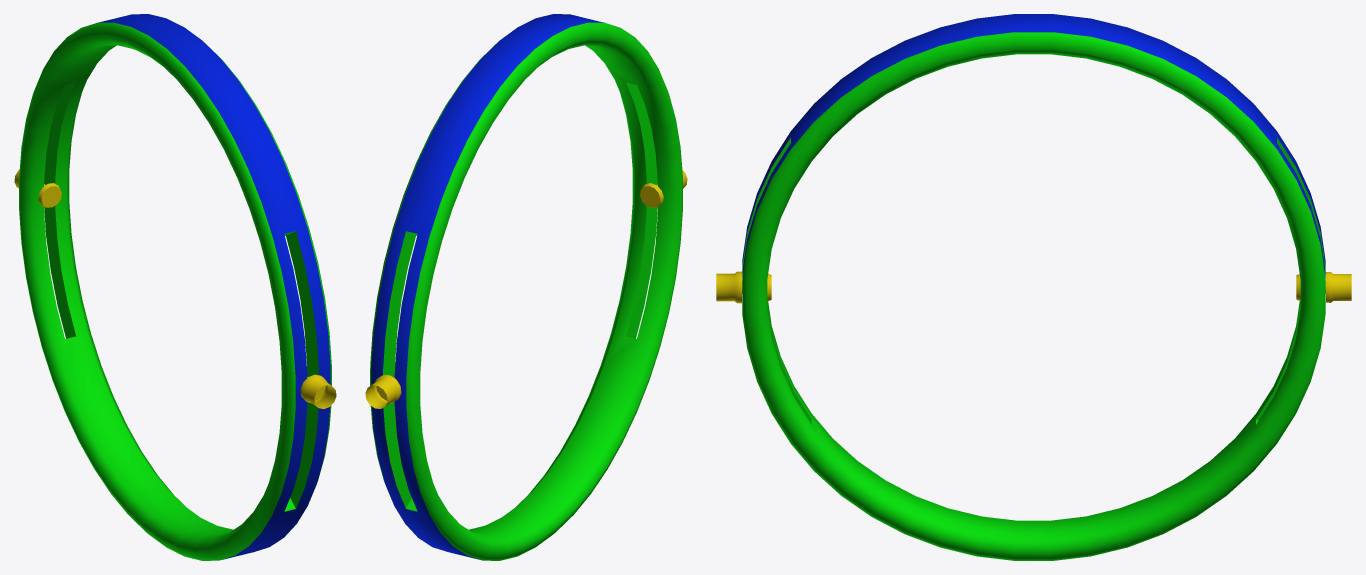
The model's file is Gyro_Middle.fbx.
3 renders of one model, left to right at view 1: azimuth 30°, elevation 25°; view 2: azimuth 150°, elevation 25°; view 3: azimuth 270°, elevation 25°, orthographic. The views are drawn at different scales.
Parts seen in each view (by area): view 1: Middle; view 2: Middle; view 3: Middle.
Part boxes in pixels (bbox=[...]): Middle: bbox=[14, 14, 336, 560]; Middle: bbox=[365, 14, 687, 560]; Middle: bbox=[716, 14, 1351, 560].
Bounding box in the file's own units: 6.97 × 68.47 × 74.58.
